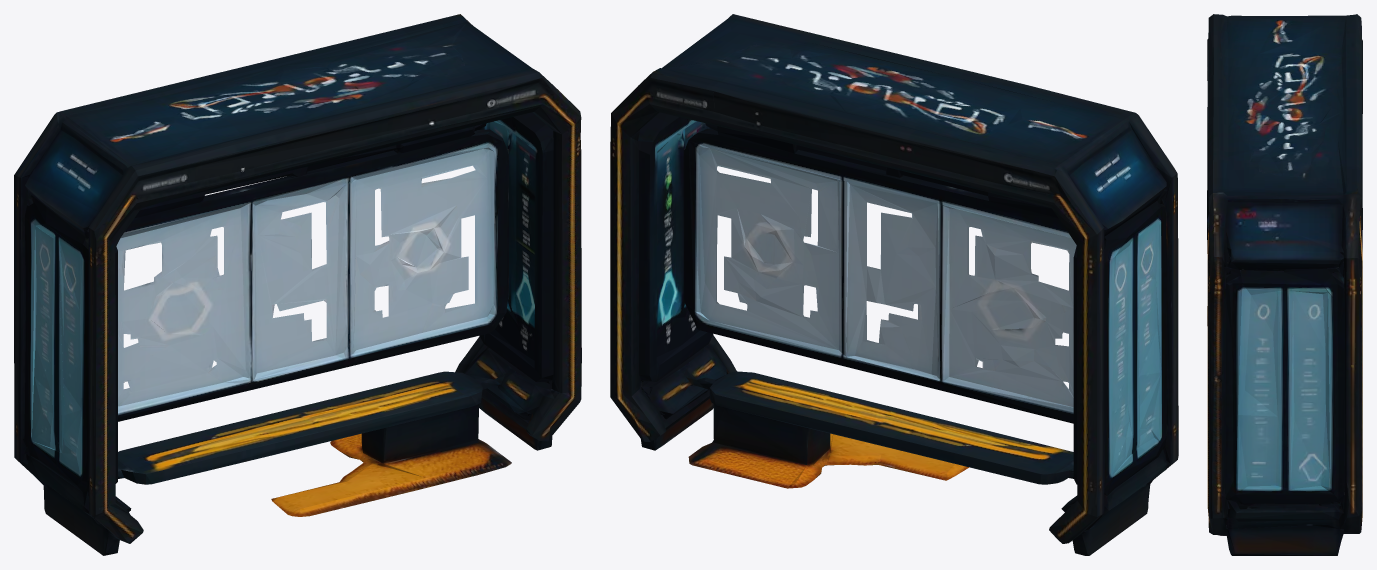
Rendered from prop-transit-stop.glb.
The picture shows the model from 3 angles, left to right: view 1: azimuth 30°, elevation 25°; view 2: azimuth 150°, elevation 25°; view 3: azimuth 270°, elevation 25°; orthographic projection. The views are drawn at different scales.
Parts seen in each view (by area): view 1: material; view 2: material; view 3: material.
Part boxes in pixels (<box>): material: <box>14,14,581,555</box>; material: <box>610,14,1178,555</box>; material: <box>1207,14,1362,555</box>.
Size of the model in its own units: 0.9943 by 0.758 by 0.3013.
1 material, 1 textured.
